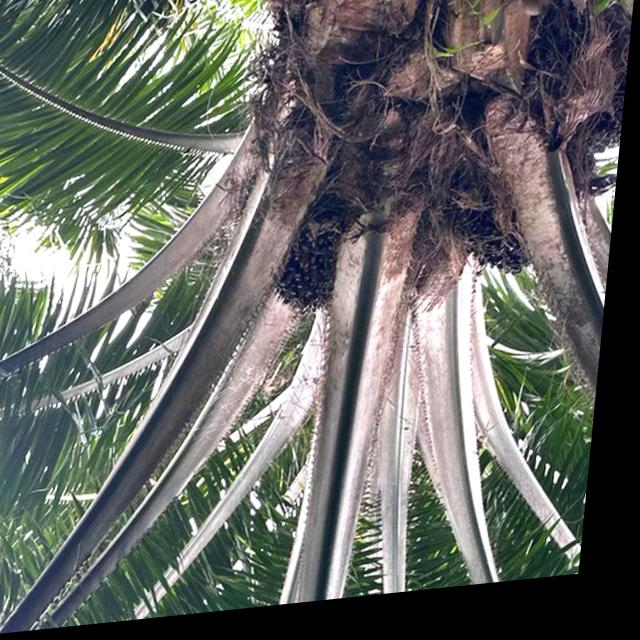almost: (266, 202, 370, 336)
unripe: (437, 177, 568, 305)
